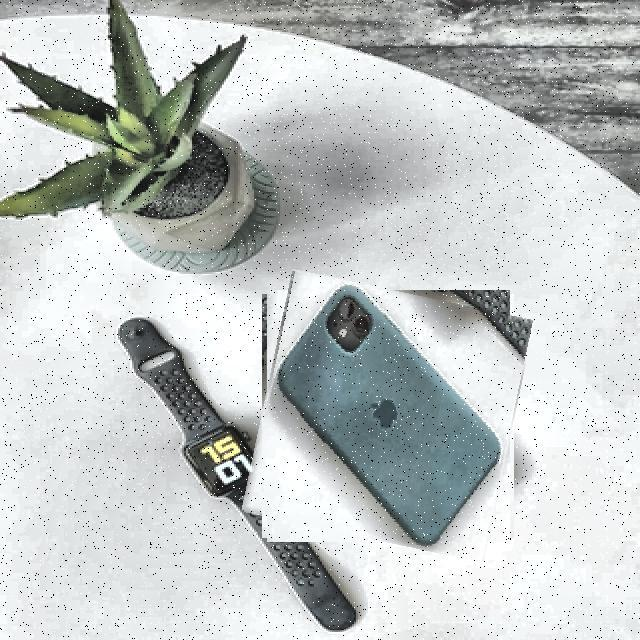Phone: (252, 280, 524, 552)
